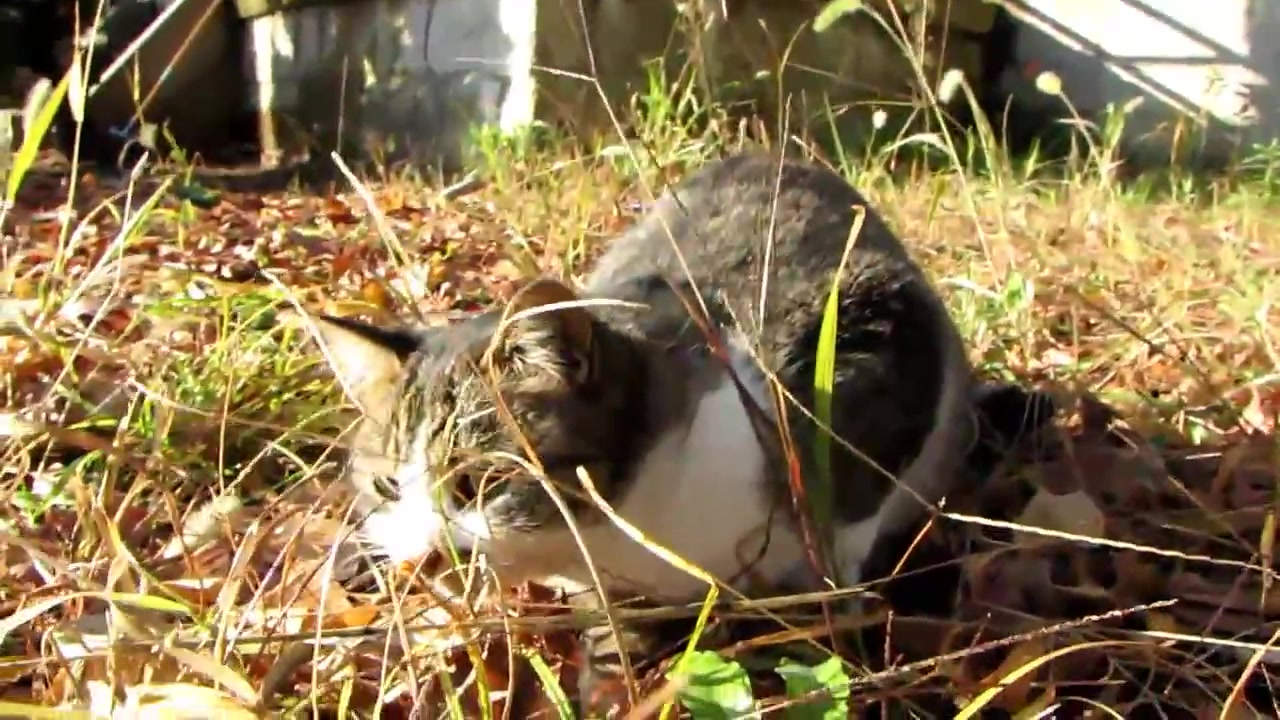cat: (306, 154, 1059, 622)
